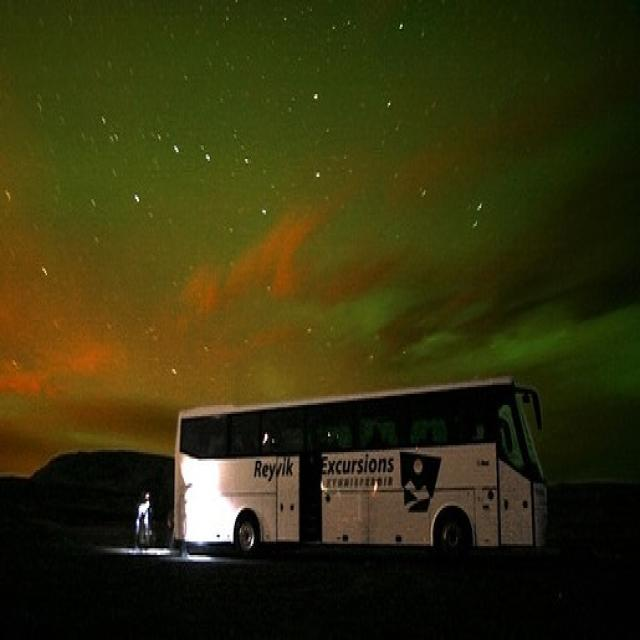Bus: (170, 401, 585, 573)
People: (132, 487, 162, 564)
